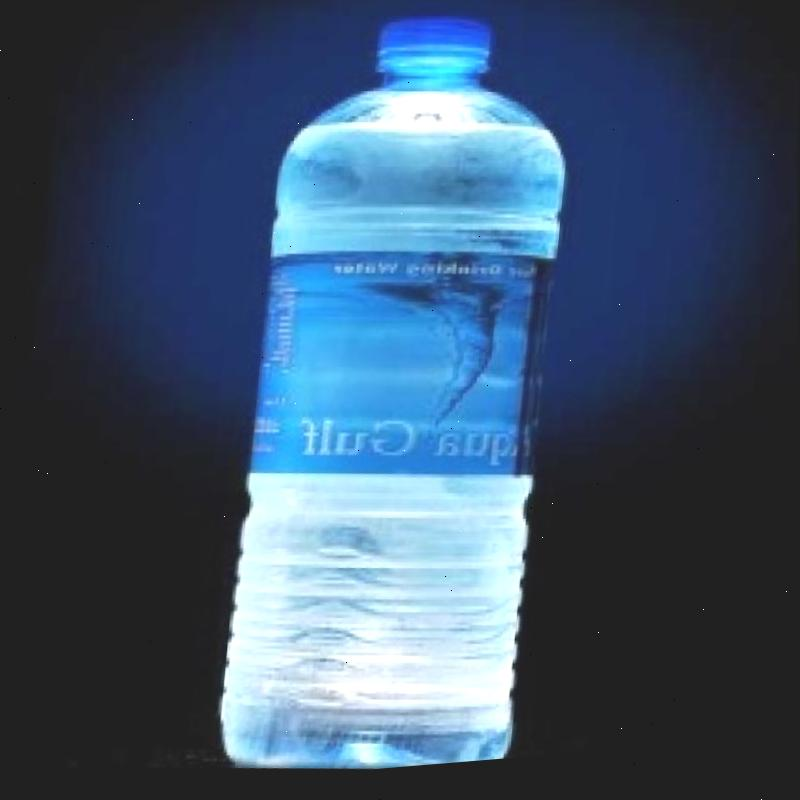botella: (214, 0, 587, 786)
